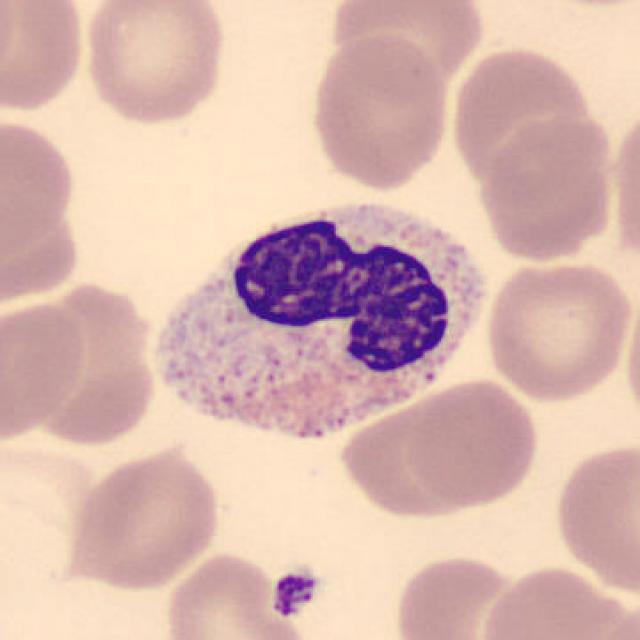Neutrophil: (138, 187, 500, 457)
Platelets: (192, 557, 315, 635), (268, 564, 324, 619)
RBC: (62, 439, 224, 592), (444, 42, 606, 190), (306, 32, 453, 192), (480, 256, 635, 404), (334, 384, 494, 524), (474, 111, 618, 265), (33, 282, 164, 447), (398, 376, 542, 513), (80, 0, 229, 129), (323, 2, 489, 98), (549, 436, 640, 598), (160, 548, 320, 640), (0, 294, 91, 446), (389, 550, 535, 640), (475, 562, 633, 640), (0, 111, 80, 259), (0, 0, 89, 116), (604, 100, 640, 268), (620, 279, 640, 432), (583, 592, 640, 640), (508, 0, 640, 14), (0, 2, 20, 92)
